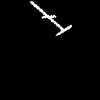double_crochet: (30, 1, 71, 34)
